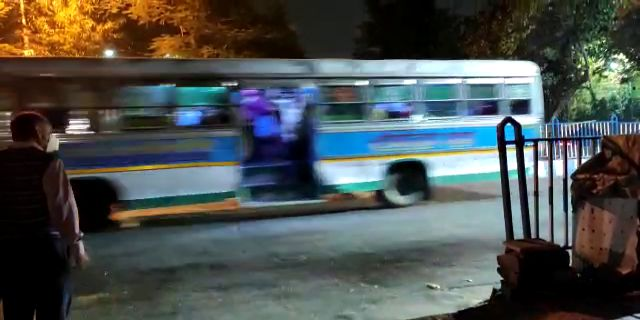Bus: (12, 54, 540, 213)
